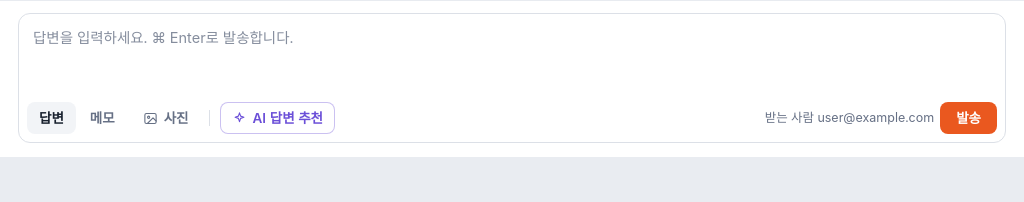
ReplyComposer › reply mode › sends the reply, empties the box, and refreshes
Type "확인 후 조치하겠습니다" into the text box named "답변 내용" at [512, 58], box x1=19 y1=14 x2=1005 y2=102
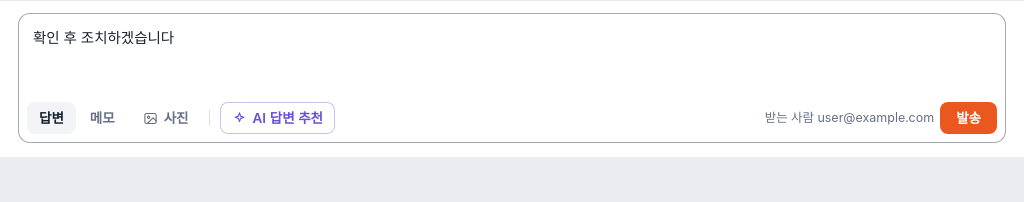
Click the button "발송" at [969, 118], box x1=940 y1=102 x2=997 y2=134
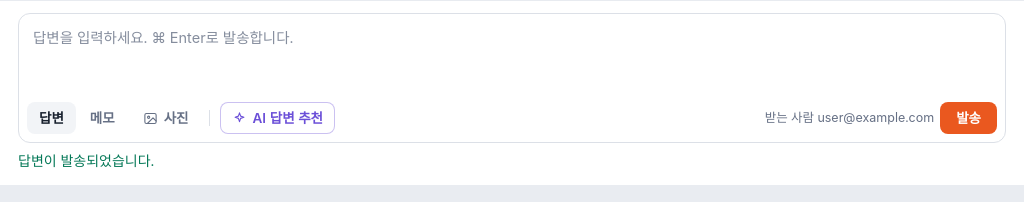
Check: the text "답변이 발송되었습니다." is shown, box x1=18 y1=152 x2=154 y2=169
Check: the text box named "답변 내용" is empty, box x1=19 y1=14 x2=1005 y2=102
